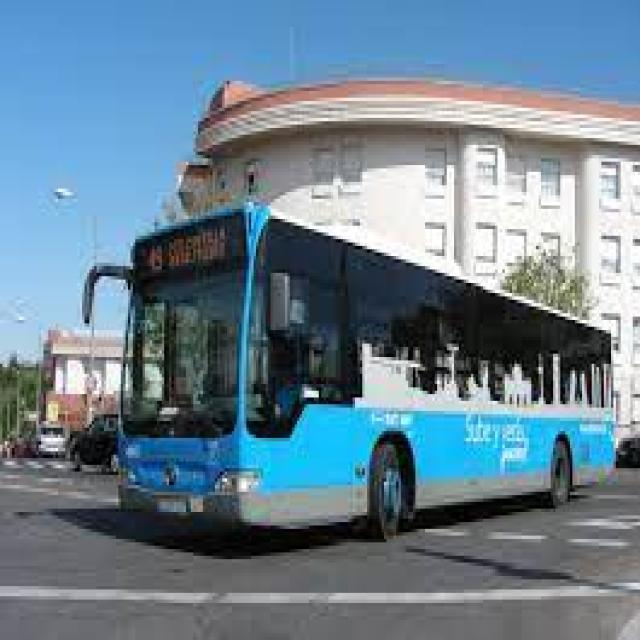BUS: (118, 189, 633, 539)
